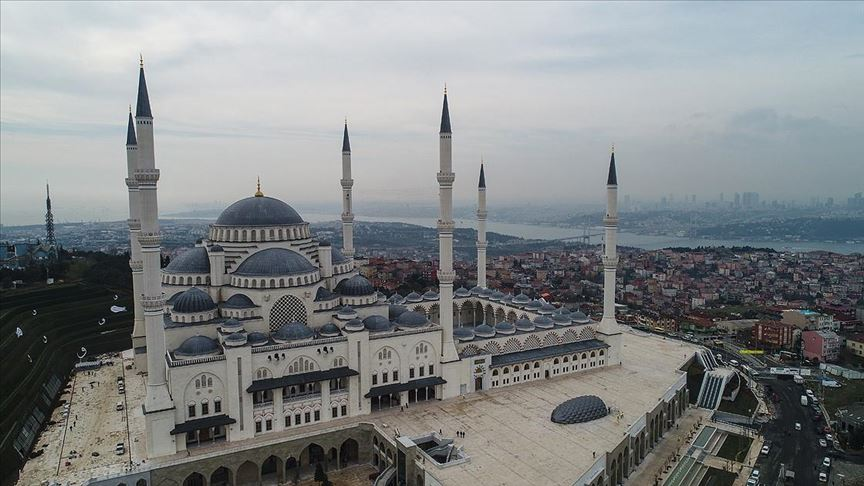Mosque: (92, 59, 641, 431)
